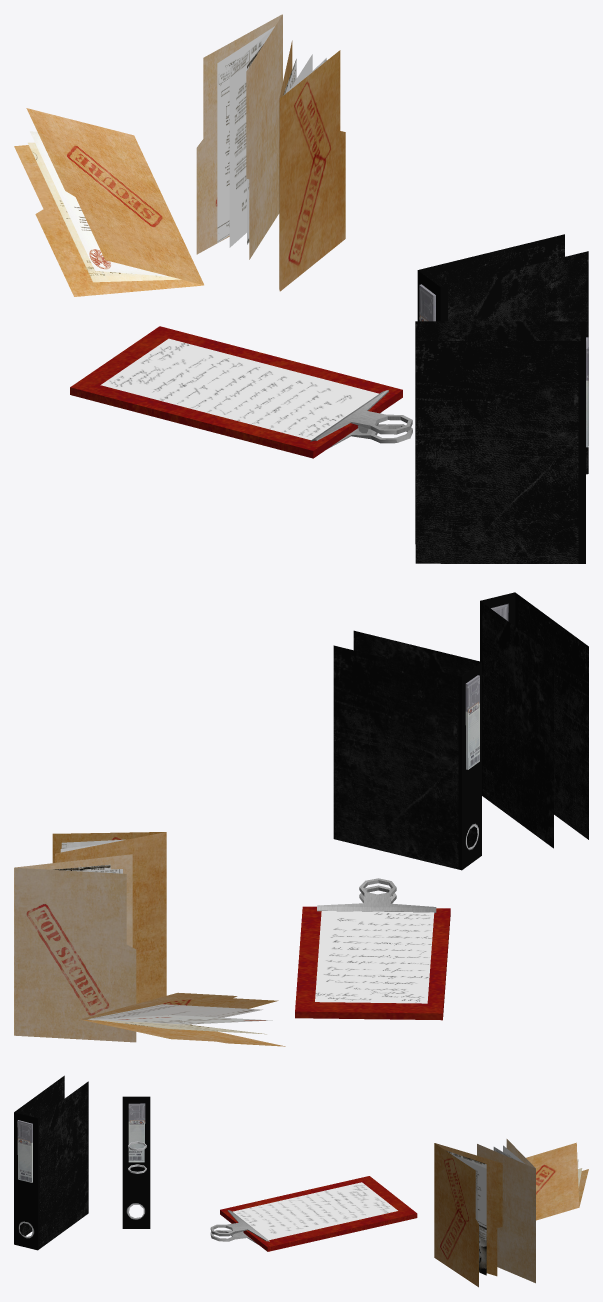
The picture shows the model from 3 angles, top to bottom: view 1: azimuth 30°, elevation 25°; view 2: azimuth 150°, elevation 25°; view 3: azimuth 270°, elevation 25°; orthographic projection. The views are drawn at different scales.
Visible parts, largest first — view 1: Plane022, Plane006, Plane020, Plane018, Plane021, Box012, Plane014, Plane013, Plane005, Plane012, Plane011, Plane008 (+2 smaller); view 2: Plane021, Plane022, Plane013, Plane020, Plane019, Box012, Plane014, Plane006, Cylinder021, Plane005, Plane009, Plane008 (+2 smaller); view 3: Plane022, Plane018, Plane020, Plane014, Plane021, Box012, Plane006, Plane019, Plane017, Cylinder021.
Part boxes in pixels (box(x1,y1,x2,y2)): Plane022: box(415, 321, 588, 563); Plane006: box(26, 108, 203, 284); Plane020: box(100, 338, 378, 439); Plane018: box(280, 50, 345, 291); Plane021: box(417, 234, 588, 474); Box012: box(70, 326, 402, 458); Plane014: box(246, 14, 282, 259); Plane013: box(196, 14, 282, 254); Plane005: box(14, 145, 203, 296); Plane012: box(229, 27, 274, 247); Plane011: box(217, 26, 274, 242); Plane008: box(30, 131, 170, 276); Plane021: box(333, 630, 481, 870); Plane022: box(480, 592, 588, 848); Plane013: box(14, 867, 136, 1042); Plane020: box(315, 911, 434, 1003); Plane019: box(55, 832, 166, 1003); Box012: box(295, 906, 450, 1020); Plane014: box(14, 854, 132, 1035); Plane006: box(81, 992, 278, 1024); Cylinder021: box(317, 878, 436, 912); Plane005: box(81, 1019, 285, 1046); Plane009: box(88, 1004, 262, 1024); Plane008: box(88, 1015, 272, 1024); Plane022: box(14, 1075, 88, 1250); Plane018: box(434, 1143, 478, 1287); Plane020: box(233, 1182, 397, 1240); Plane014: box(477, 1144, 535, 1283); Plane021: box(122, 1096, 150, 1228); Box012: box(220, 1176, 417, 1251); Plane006: box(526, 1142, 579, 1220); Plane019: box(435, 1143, 502, 1276); Plane017: box(450, 1153, 486, 1275); Cylinder021: box(210, 1210, 269, 1241).
Bounding box in the file's own units: 88.31 × 51.3 × 201.
3 materials, 3 textured.
